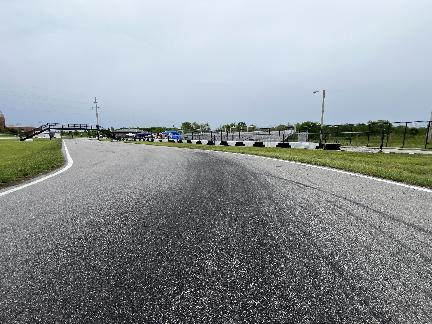Grass: (130, 142, 431, 187), (0, 139, 64, 183)
Lane: (0, 140, 431, 323)
